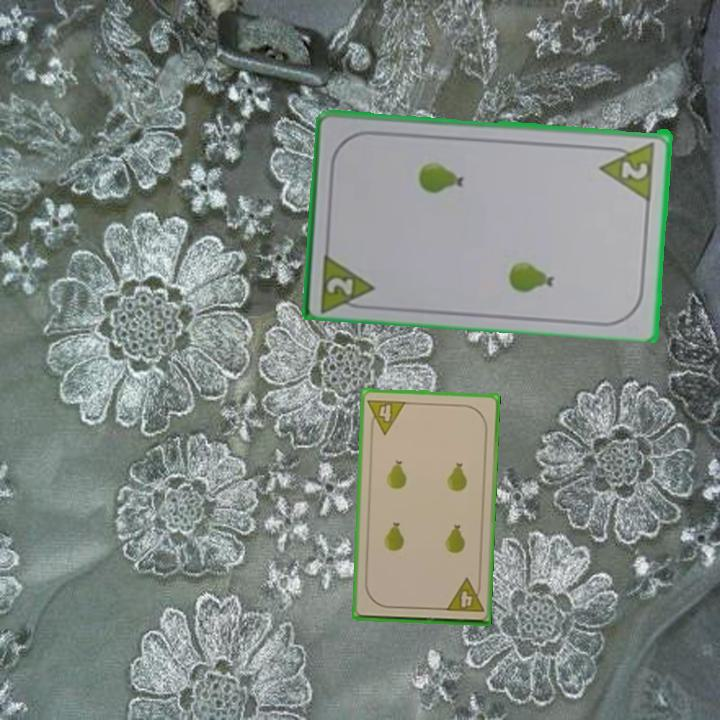2p: (618, 155, 651, 182), (323, 273, 356, 297)
4p: (364, 395, 409, 437), (442, 575, 486, 615)
